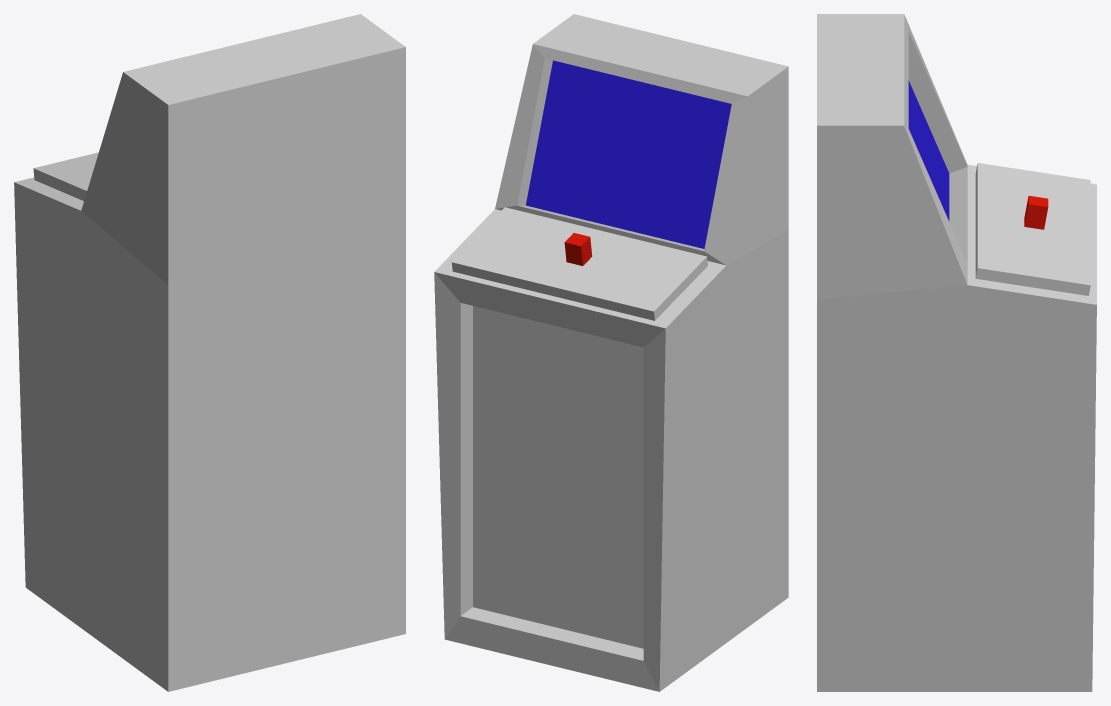
The model's file is TriggerButton.fbx.
3 views of the same model, side by side, from view 1: azimuth 30°, elevation 25°; view 2: azimuth 150°, elevation 25°; view 3: azimuth 270°, elevation 25° (orthographic). The views are drawn at different scales.
Parts seen in each view (by area): view 1: TriggerButton; view 2: TriggerButton; view 3: TriggerButton.
Boxes of the visible parts, x1,y1,x2,y2 form: TriggerButton: (14, 14, 405, 691); TriggerButton: (434, 14, 788, 691); TriggerButton: (817, 14, 1096, 691).
Size of the model in its own units: 132 by 289 by 129.
